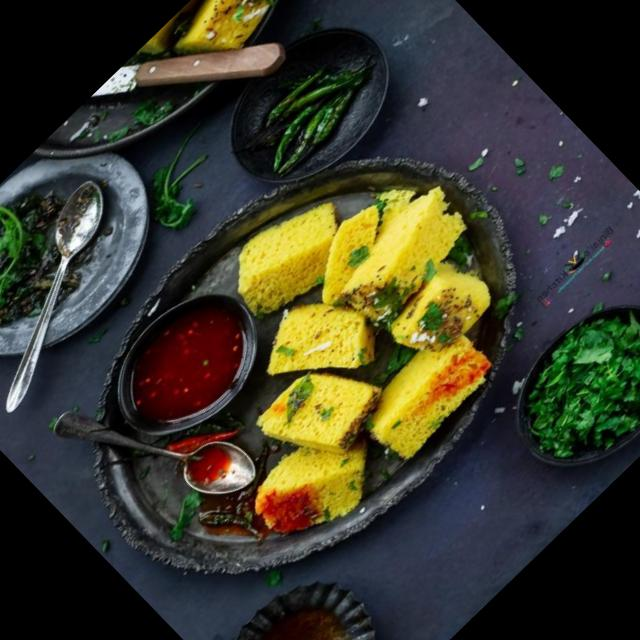dhokla: (216, 122, 554, 462), (207, 370, 390, 554), (169, 0, 338, 73)
